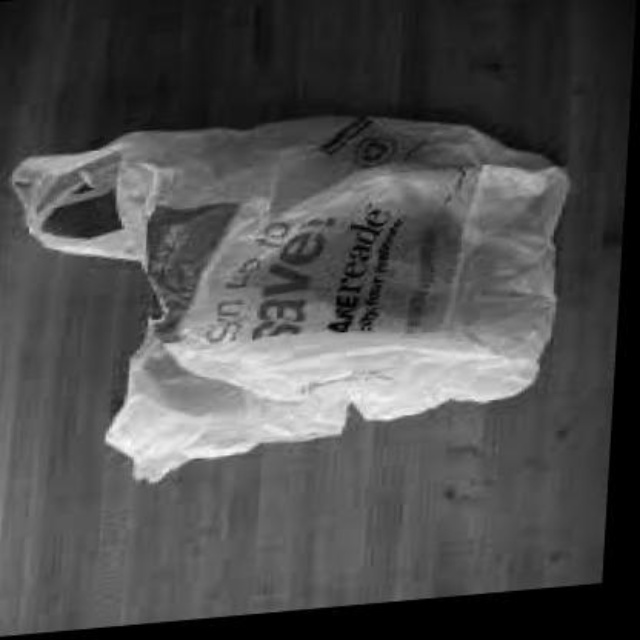trash: (11, 117, 566, 480)
